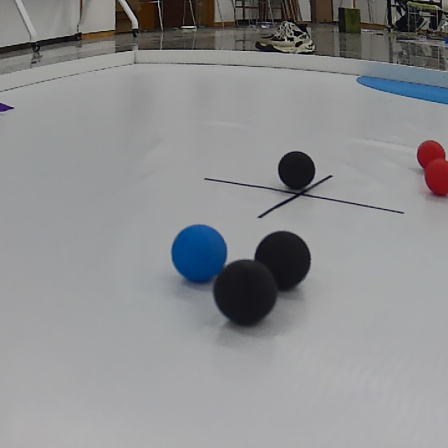black: (216, 251, 278, 328), (255, 226, 311, 288), (272, 148, 321, 188)
blue: (164, 218, 232, 281)
blue_base: (356, 72, 448, 110)
red: (413, 138, 446, 170), (427, 160, 448, 201)
